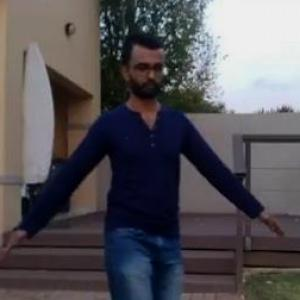land: (1, 46, 250, 299)
